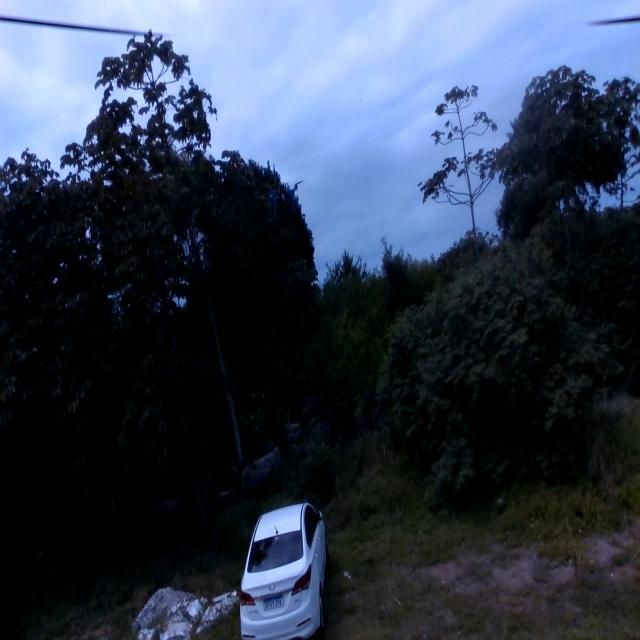-uav-: (258, 168, 311, 231)
